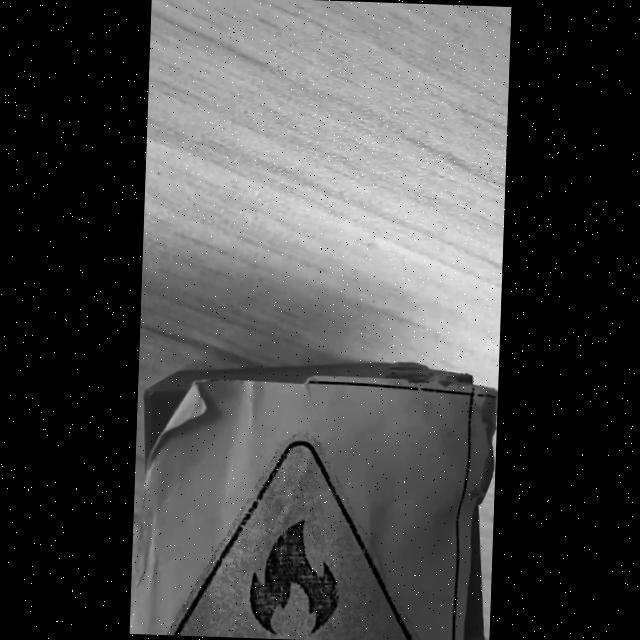Fire: (170, 440, 414, 640)
